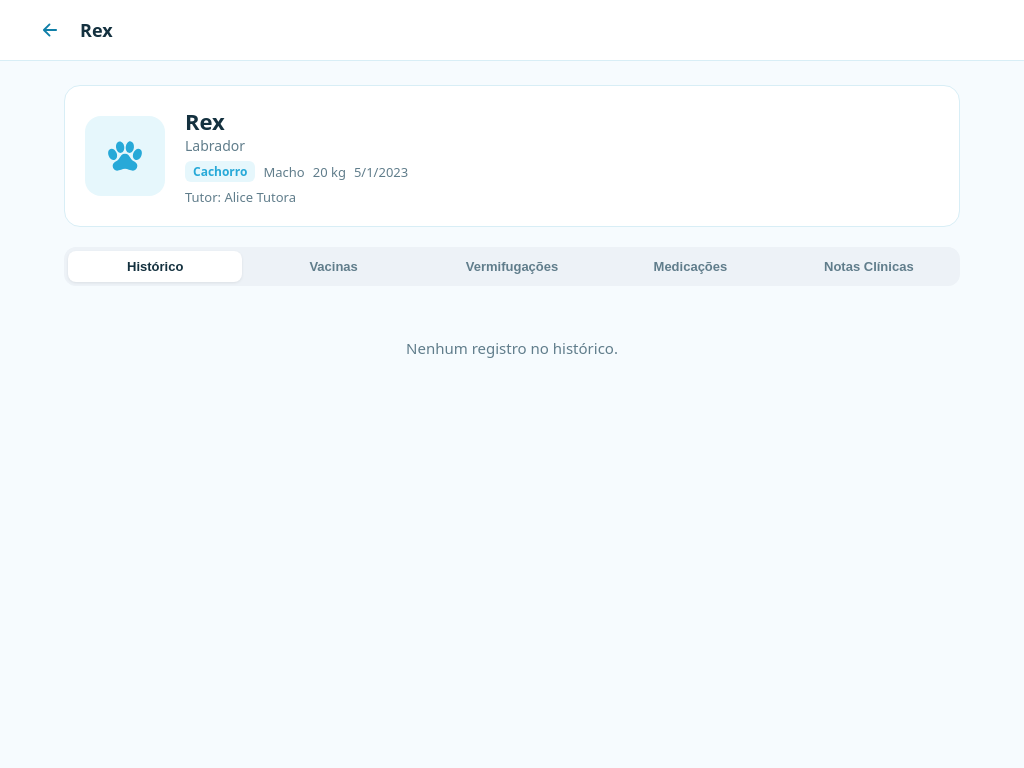
Test: VetPetProfilePage — bloqueio por CRMV (api#113) › registro clínico pelo veterinário (web#34) › traduz o erro da API em vez de mostrar o texto em inglês
Check: the heading "Rex" is shown, box top-left (185, 106), bottom-right (225, 136)
Click the button "Vacinas".
click(334, 266)  # box top-left (246, 251), bottom-right (421, 282)
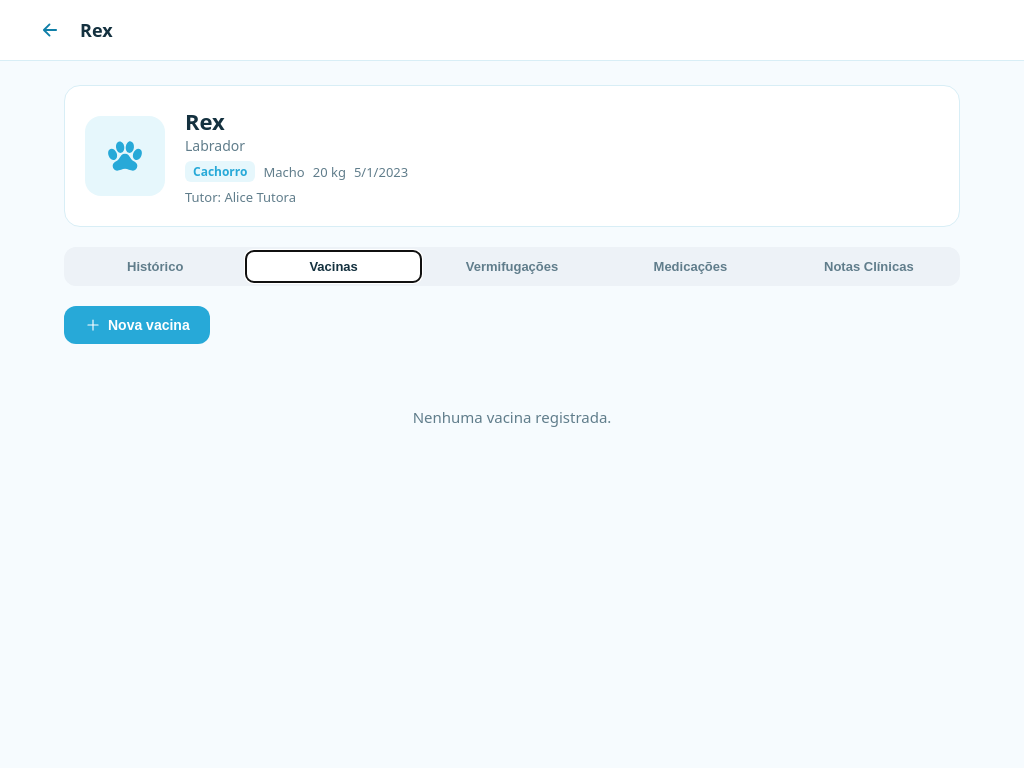
Click the button "Nova vacina".
click(137, 325)  # box top-left (64, 306), bottom-right (210, 344)
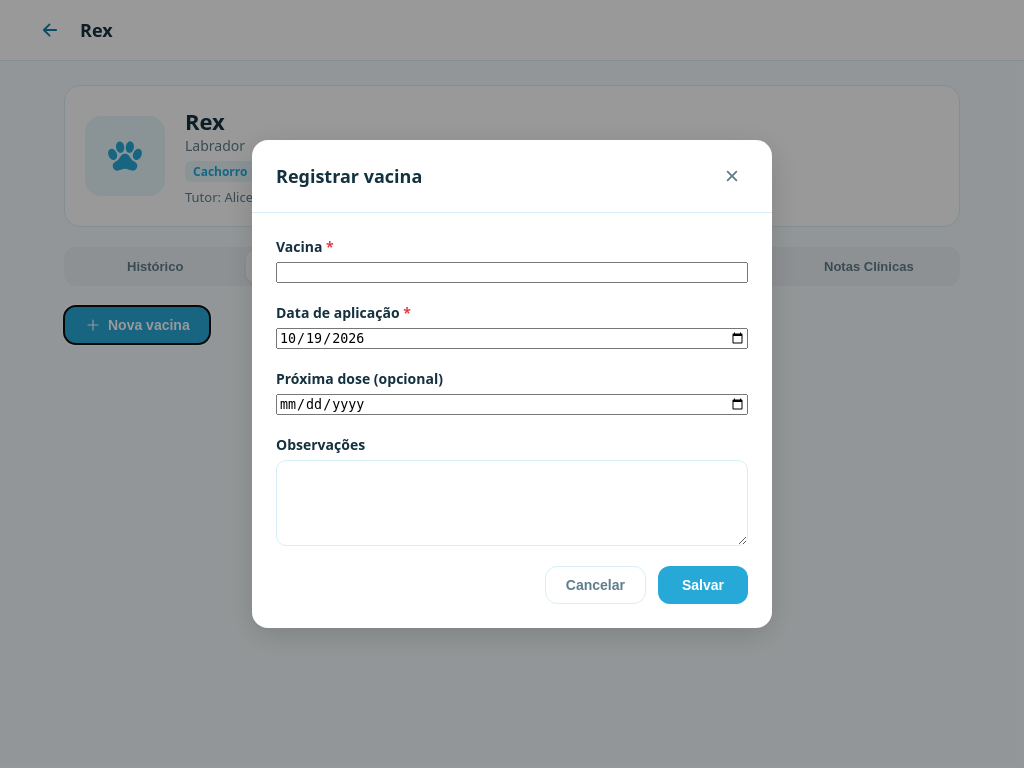
Type "Antirrábica" into the field labelled "Vacina *".
click(512, 272); type("Antirrábica")  # box top-left (276, 262), bottom-right (748, 283)
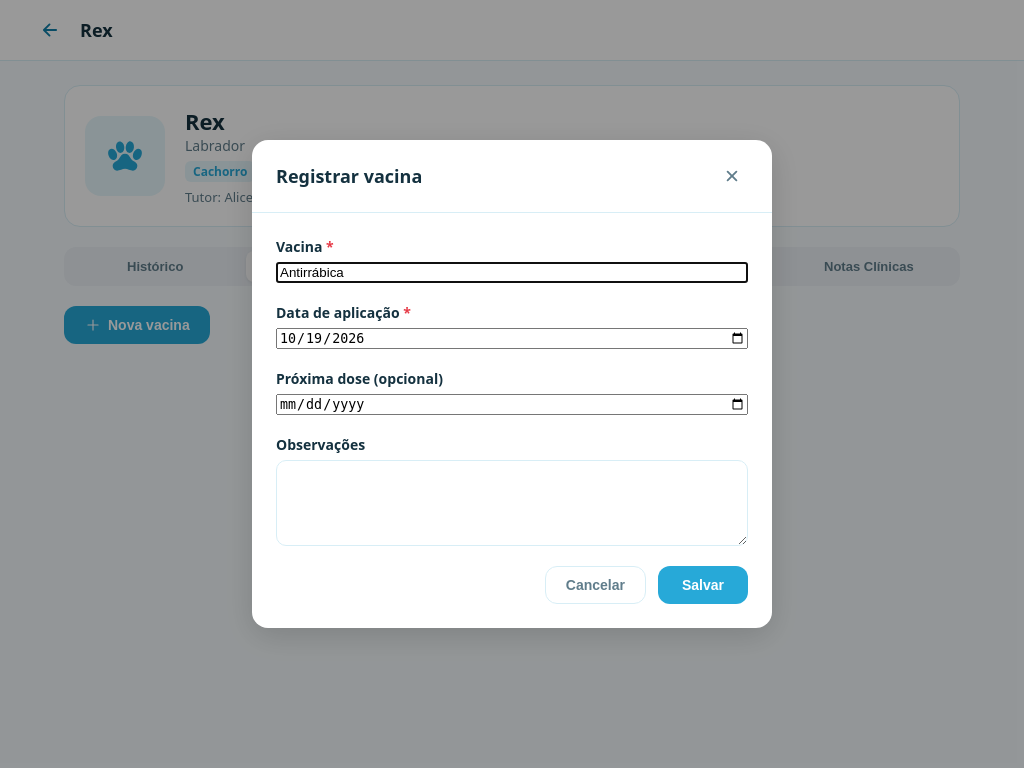
Click the button "Salvar".
click(703, 585)  # box top-left (658, 566), bottom-right (748, 604)
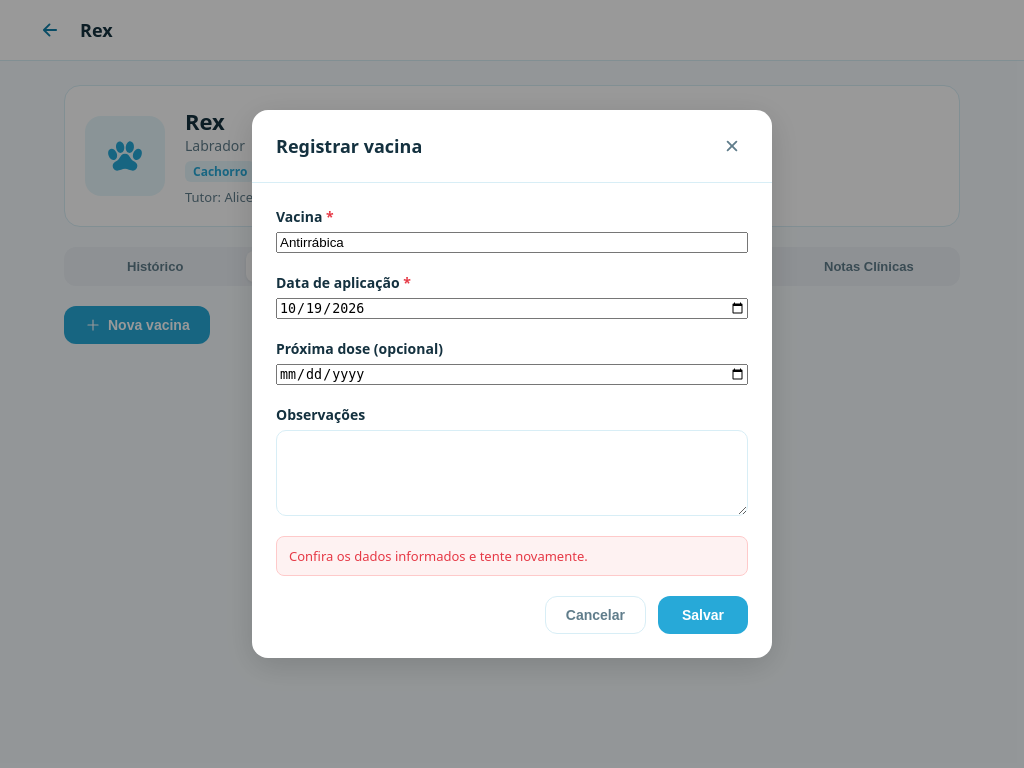
Check: the text "Confira os dados informados e tente novamente." is shown, box top-left (276, 536), bottom-right (748, 576)
